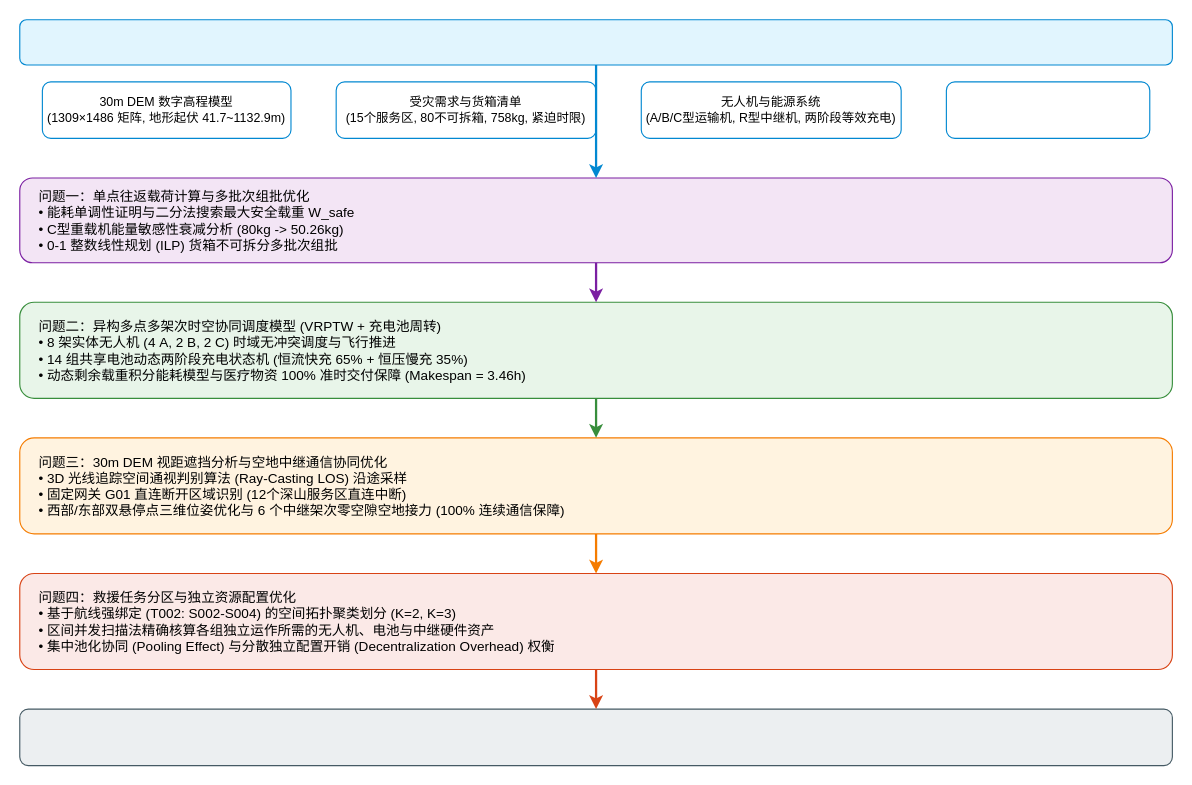
Some shapes in this 1192 by 785 pixel diagram are drawn without their labels. The centre of each missing label's shape, as x and y in pixels:
"决策成果输出：官方结果提交模板.xlsx (6个Sheet) + 5幅高精度学术矢量图表 (figures/*.pdf) + 应急抢险调度方案报告" goes at pixel 595 737.
"无线射频与空间信道 (2.4GHz, 链路损耗门限, 10dB山体阻断衰减)" goes at pixel 1047 109.
"输入层：基础多源异构救援数据与环境感知" goes at pixel 595 42.
